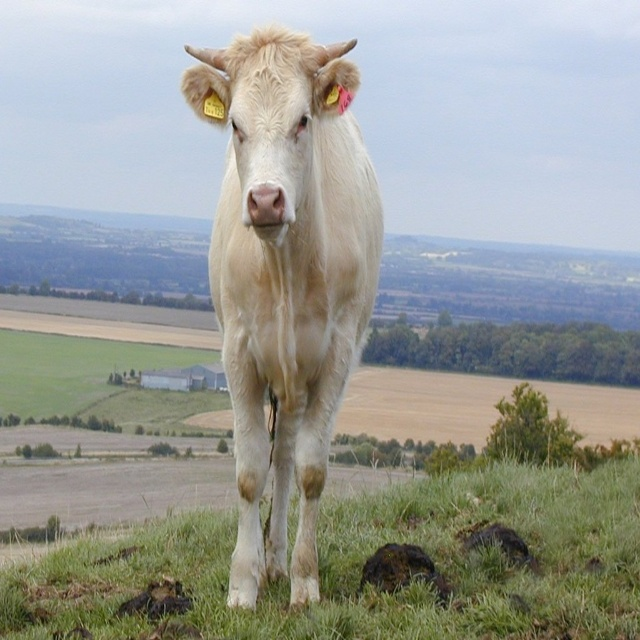Cattle: (179, 23, 384, 609)
